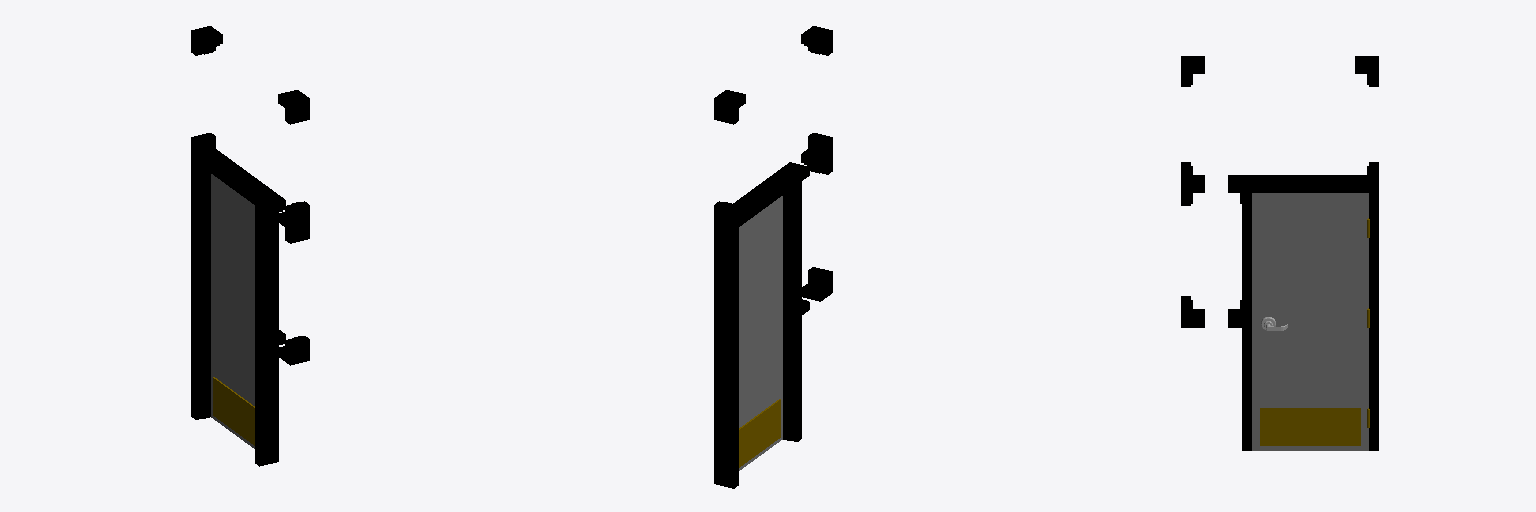
File: CS_Building_Door.obj
3 renders of one model, left to right at view 1: azimuth 30°, elevation 25°; view 2: azimuth 150°, elevation 25°; view 3: azimuth 270°, elevation 25°, orthographic.
Parts seen in each view (by area): view 1: Door polySurface35, Door polySurface34, Door pCube4, Door polySurface28, polySurface27 Door, Door polySurface15, Door polySurface25, Door polySurface19, Door polySurface20, Door polySurface13; view 2: Door polySurface35, Door polySurface34, Door pCube4, polySurface27 Door, Door polySurface15, Door polySurface28, Door polySurface25, Door polySurface26; view 3: Door polySurface34, Door polySurface35, Door pCube4, Door polySurface15, polySurface27 Door, Door polySurface28.
Part boxes in pixels (x1,y1,x2,y2): Door polySurface35: (191,149,278,466); Door polySurface34: (211,174,254,448); Door pCube4: (213,377,254,445); Door polySurface28: (278,90,309,124); polySurface27 Door: (191,26,222,55); Door polySurface15: (278,336,309,365); Door polySurface25: (191,133,219,166); Door polySurface19: (278,212,309,243); Door polySurface20: (255,192,285,220); Door polySurface13: (255,317,285,347); Door polySurface35: (714,167,801,488); Door polySurface34: (739,196,782,470); Door pCube4: (739,399,780,467); polySurface27 Door: (714,90,745,124); Door polySurface15: (802,267,832,301); Door polySurface28: (801,26,832,55); Door polySurface25: (714,201,745,230); Door polySurface26: (804,133,832,166); Door polySurface34: (1252,193,1368,450); Door polySurface35: (1242,175,1378,450); Door pCube4: (1260,408,1360,445); Door polySurface15: (1181,296,1204,327); polySurface27 Door: (1355,56,1378,86); Door polySurface28: (1181,56,1204,86).
Bounding box in the file's own units: 1.55 × 18.4 × 8.56.